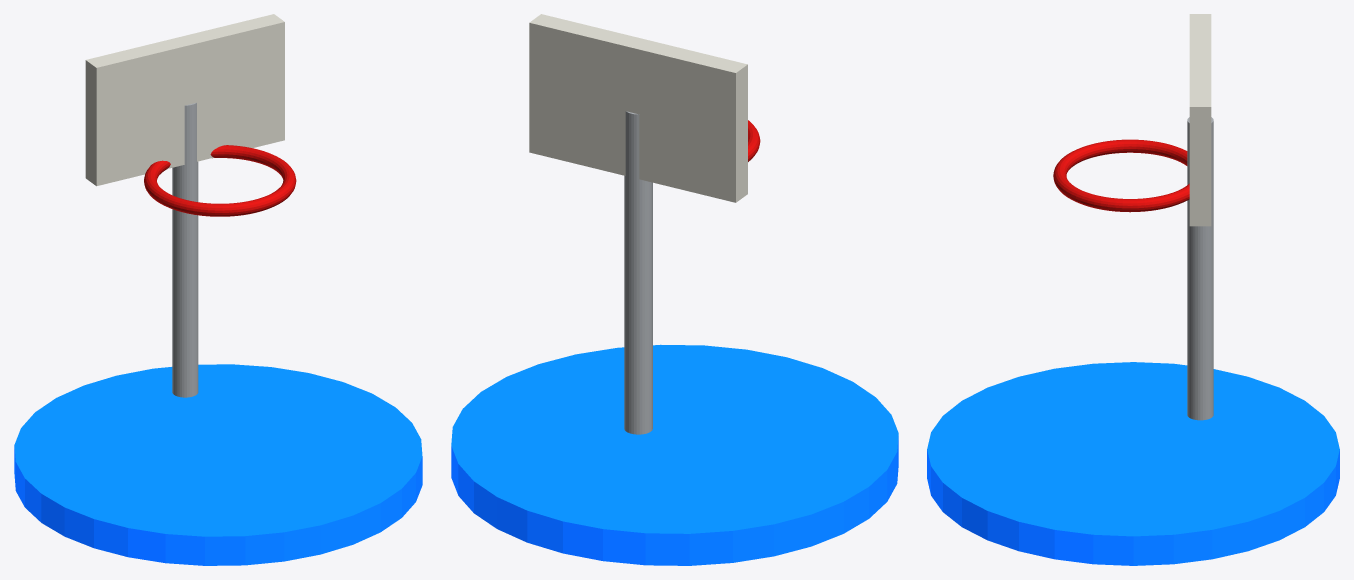
File: sports_basketball_hoop.dae
3 views of the same model, side by side, from view 1: azimuth 30°, elevation 25°; view 2: azimuth 150°, elevation 25°; view 3: azimuth 270°, elevation 25° (orthographic). The views are drawn at different scales.
Parts seen in each view (by area): view 1: 04_20_Popular_Sports_Basketball_Hoop_ROOT_base, 04_20_Popular_Sports_Basketball_Hoop_part_02, 04_20_Popular_Sports_Basketball_Hoop_part_01, 04_20_Popular_Sports_Basketball_Hoop_part_03; view 2: 04_20_Popular_Sports_Basketball_Hoop_ROOT_base, 04_20_Popular_Sports_Basketball_Hoop_part_02, 04_20_Popular_Sports_Basketball_Hoop_part_01; view 3: 04_20_Popular_Sports_Basketball_Hoop_ROOT_base, 04_20_Popular_Sports_Basketball_Hoop_part_01, 04_20_Popular_Sports_Basketball_Hoop_part_02, 04_20_Popular_Sports_Basketball_Hoop_part_03.
Part boxes in pixels (<box>): 04_20_Popular_Sports_Basketball_Hoop_ROOT_base: <box>14,364,422,565</box>; 04_20_Popular_Sports_Basketball_Hoop_part_02: <box>85,14,284,186</box>; 04_20_Popular_Sports_Basketball_Hoop_part_01: <box>172,102,198,397</box>; 04_20_Popular_Sports_Basketball_Hoop_part_03: <box>144,145,296,216</box>; 04_20_Popular_Sports_Basketball_Hoop_ROOT_base: <box>451,344,898,565</box>; 04_20_Popular_Sports_Basketball_Hoop_part_02: <box>529,14,747,202</box>; 04_20_Popular_Sports_Basketball_Hoop_part_01: <box>624,111,652,434</box>; 04_20_Popular_Sports_Basketball_Hoop_ROOT_base: <box>927,362,1339,565</box>; 04_20_Popular_Sports_Basketball_Hoop_part_01: <box>1187,117,1213,420</box>; 04_20_Popular_Sports_Basketball_Hoop_part_02: <box>1189,14,1211,226</box>; 04_20_Popular_Sports_Basketball_Hoop_part_03: <box>1053,139,1189,212</box>.
Size of the model in its own units: 0.76 by 0.85 by 0.76.
